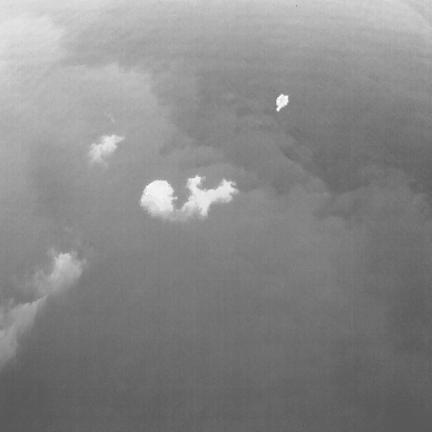flukeprints: (178, 176, 238, 217), (140, 181, 176, 218), (88, 136, 124, 164), (277, 94, 288, 111)
